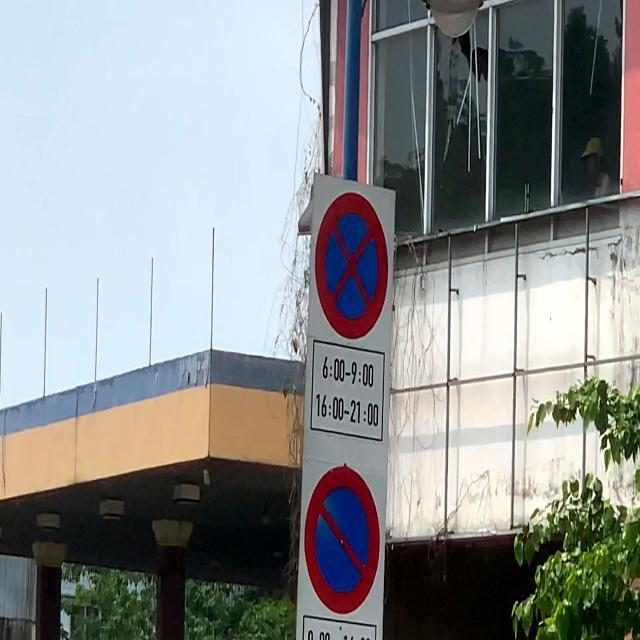P-130: (318, 192, 386, 341)
P-131a: (304, 464, 380, 616)
